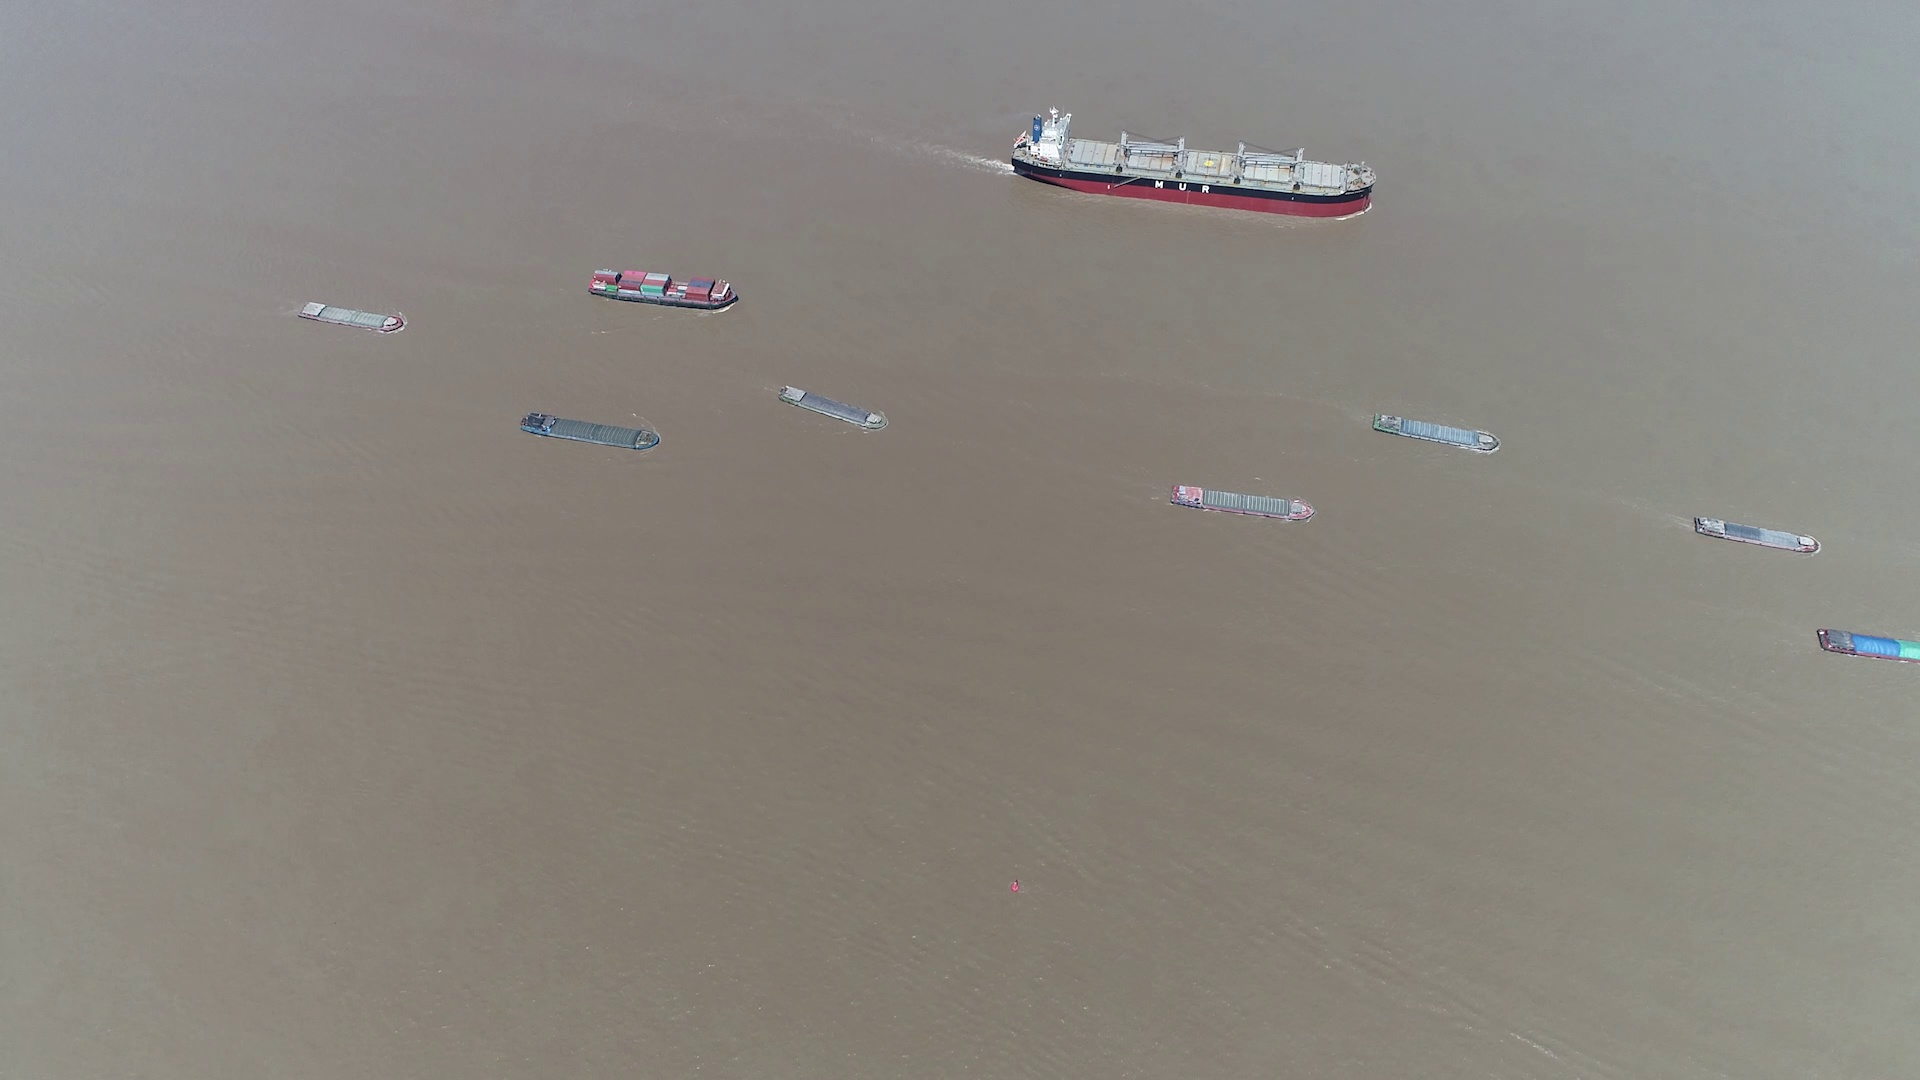ship: (1009, 111, 1373, 215), (589, 269, 738, 311), (1171, 484, 1315, 524), (520, 411, 659, 451), (1371, 411, 1501, 454), (778, 385, 889, 433), (1691, 516, 1821, 554), (1815, 626, 1919, 663), (297, 301, 405, 334)
